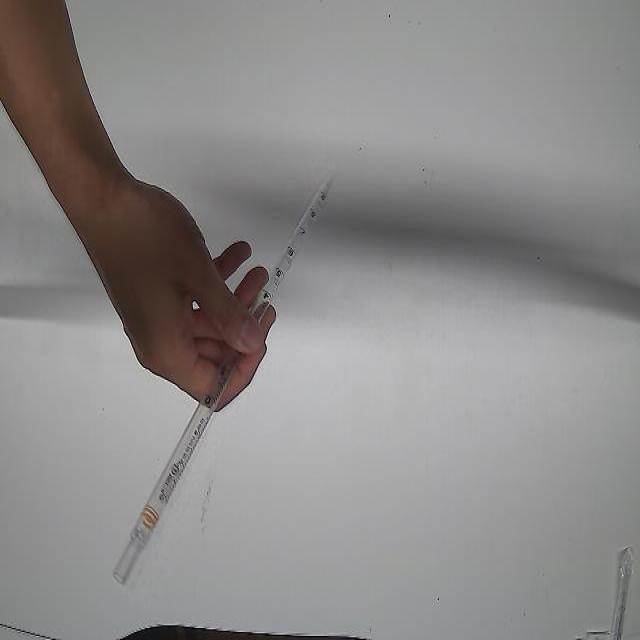Serelogical Pipet 10 mL: (112, 151, 346, 588)
